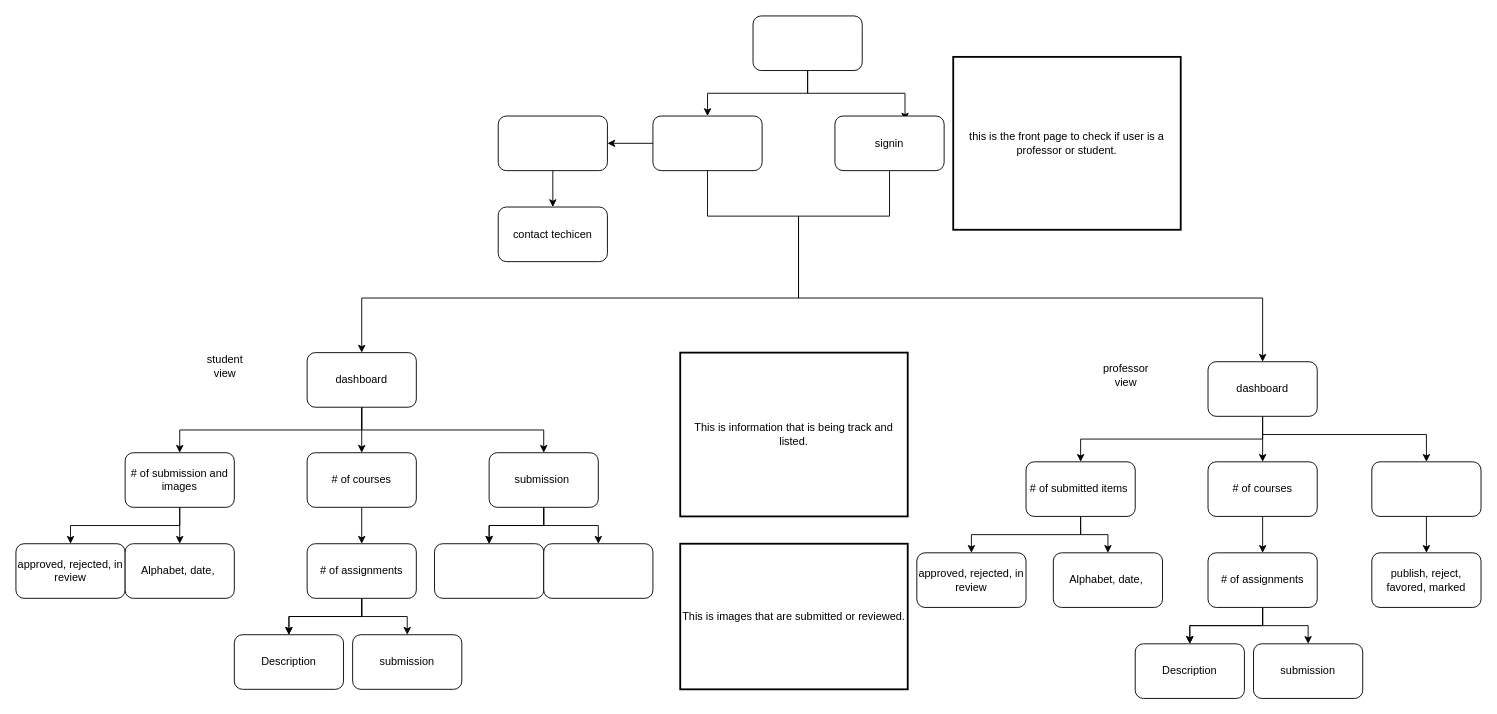
Some shapes in this 1497 by 714 pixel diagram are drawn without their labels. Each missing label, with the box of its shape:
edit submission: (1371, 461, 1481, 516)
error, cannot be submitted: (543, 543, 653, 598)
forgot password: (497, 115, 607, 171)
Homepage: (752, 15, 862, 71)
login: (652, 115, 762, 171)
submited: (434, 543, 544, 598)
